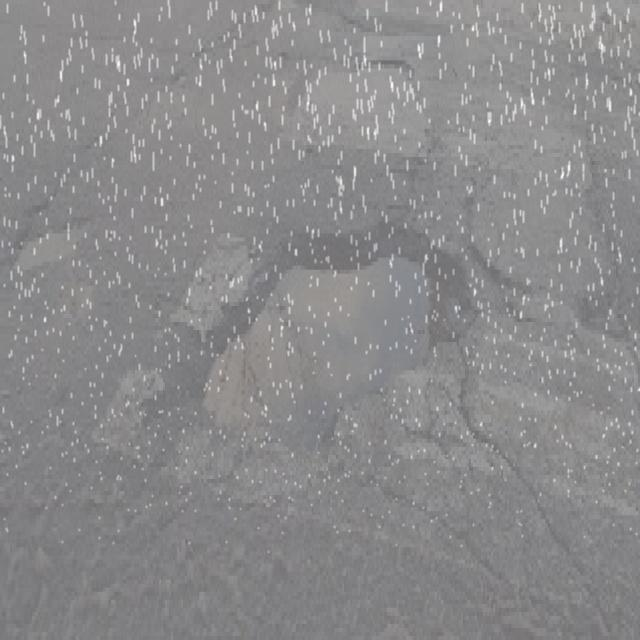Pothole: (188, 218, 479, 493), (284, 50, 433, 172), (0, 207, 108, 292)
